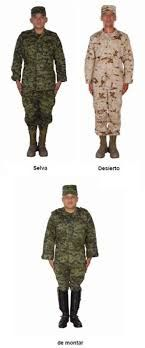uniform: (41, 203, 91, 321), (86, 28, 130, 153), (17, 29, 62, 136)
